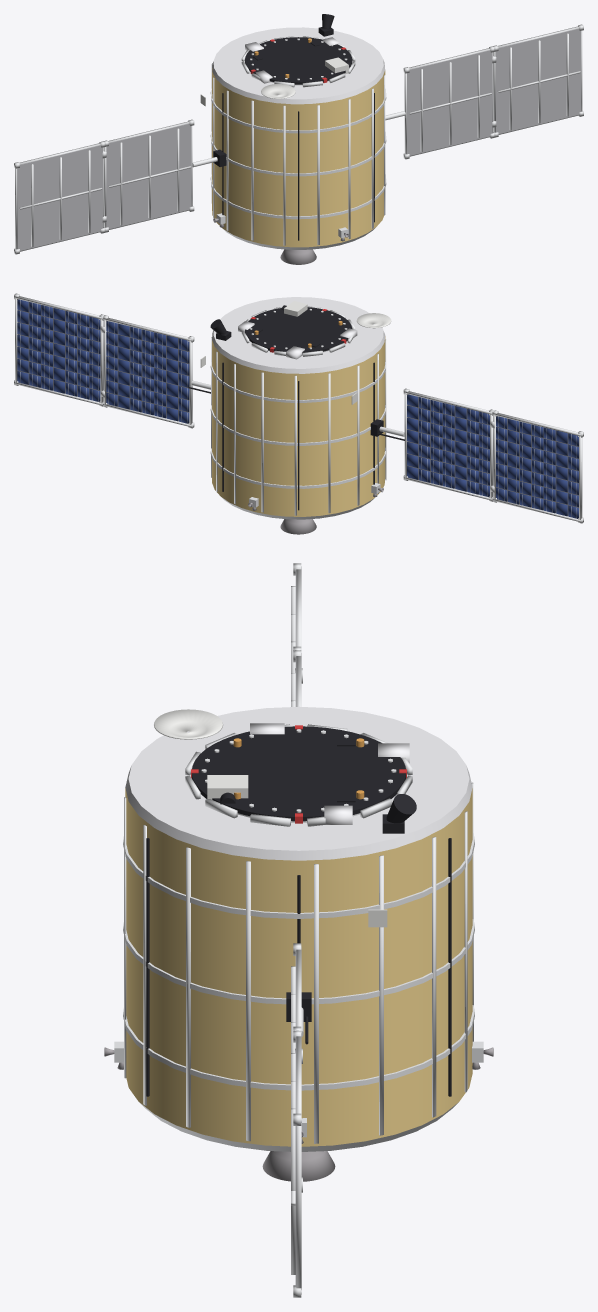
The model's file is propulsion_module.glb.
3 views of the same model, one above another, from view 1: azimuth 30°, elevation 25°; view 2: azimuth 150°, elevation 25°; view 3: azimuth 270°, elevation 25° (orthographic). The views are drawn at different scales.
Visible parts, largest first — view 1: pm_body, pm_wing_starboard_panel0_substrate, pm_wing_starboard_panel1_substrate, pm_wing_port_panel0_substrate, pm_wing_port_panel1_substrate, pm_top_deck, clamp_band, pm_stringers, pm_wing_port_panel1_back_ribs, pm_wing_starboard_panel1_back_ribs, pm_wing_port_panel0_back_ribs, pm_wing_starboard_panel0_back_ribs (+12 smaller); view 2: pm_body, pm_wing_starboard_panel0_cells, pm_wing_starboard_panel1_cells, pm_wing_port_panel0_cells, pm_wing_port_panel1_cells, pm_top_deck, clamp_band, pm_stringers, pm_wing_starboard_panel0_frame, pm_wing_starboard_panel0_substrate, pm_wing_port_panel1_frame, pm_wing_port_panel0_frame (+16 smaller); view 3: pm_body, pm_top_deck, clamp_band, pm_stringers, pm_band2, pm_band0, pm_band1, vband_clamp_segments, pm_wing_starboard_panel1_frame, pm_antenna, pm_main_engine_bell, pm_bottom_deck (+4 smaller).
Part boxes in pixels (left/top/right/bottom): pm_body: left=212, top=68, right=385, bottom=247; pm_wing_starboard_panel0_substrate: left=407, top=50, right=492, bottom=155; pm_wing_starboard_panel1_substrate: left=495, top=28, right=581, bottom=133; pm_wing_port_panel0_substrate: left=106, top=123, right=191, bottom=228; pm_wing_port_panel1_substrate: left=17, top=145, right=102, bottom=250; pm_top_deck: left=212, top=27, right=385, bottom=104; clamp_band: left=245, top=37, right=352, bottom=84; pm_stringers: left=211, top=63, right=385, bottom=245; pm_wing_port_panel1_back_ribs: left=19, top=150, right=102, bottom=247; pm_wing_starboard_panel1_back_ribs: left=497, top=33, right=580, bottom=130; pm_wing_port_panel0_back_ribs: left=108, top=128, right=191, bottom=225; pm_wing_starboard_panel0_back_ribs: left=409, top=55, right=491, bottom=151; pm_body: left=212, top=336, right=385, bottom=516; pm_wing_starboard_panel0_cells: left=106, top=321, right=189, bottom=423; pm_wing_starboard_panel1_cells: left=17, top=299, right=100, bottom=401; pm_wing_port_panel0_cells: left=407, top=394, right=489, bottom=497; pm_wing_port_panel1_cells: left=496, top=416, right=578, bottom=518; pm_top_deck: left=212, top=297, right=385, bottom=373; clamp_band: left=245, top=307, right=351, bottom=353; pm_stringers: left=211, top=337, right=386, bottom=515; pm_wing_starboard_panel0_frame: left=103, top=315, right=194, bottom=428; pm_wing_starboard_panel0_substrate: left=106, top=324, right=189, bottom=421; pm_wing_port_panel1_frame: left=492, top=410, right=583, bottom=523; pm_wing_port_panel0_frame: left=403, top=388, right=494, bottom=501; pm_body: left=125, top=788, right=472, bottom=1146; pm_top_deck: left=125, top=706, right=472, bottom=860; clamp_band: left=192, top=726, right=405, bottom=821; pm_stringers: left=124, top=782, right=473, bottom=1143; pm_band2: left=123, top=833, right=474, bottom=918; pm_band0: left=123, top=1005, right=474, bottom=1090; pm_band1: left=123, top=919, right=474, bottom=1004; vband_clamp_segments: left=185, top=724, right=412, bottom=826; pm_wing_starboard_panel1_frame: left=293, top=1030, right=301, bottom=1297; pm_antenna: left=154, top=709, right=222, bottom=739; pm_main_engine_bell: left=262, top=1151, right=335, bottom=1181; pm_bottom_deck: left=139, top=1102, right=458, bottom=1151.
Size of the model in its own units: 8.31 by 2.97 by 2.47.
